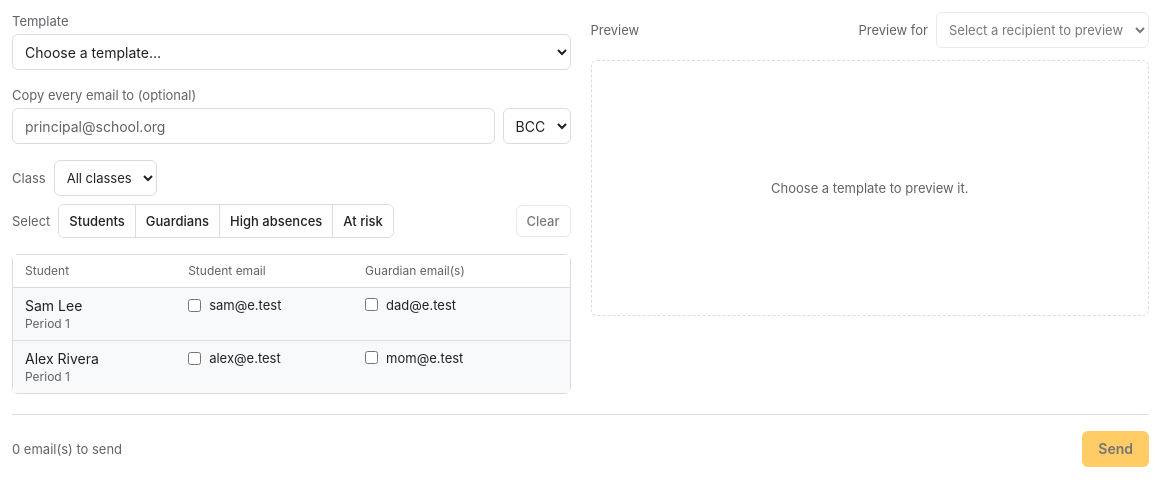
it: ComposeView › At risk selects both the student and guardian emails for at-risk rows
Expected: the button "Alex Rivera" is shown, [25, 349, 99, 369]
Click the button "At risk" at (363, 221), box [333, 205, 393, 237]
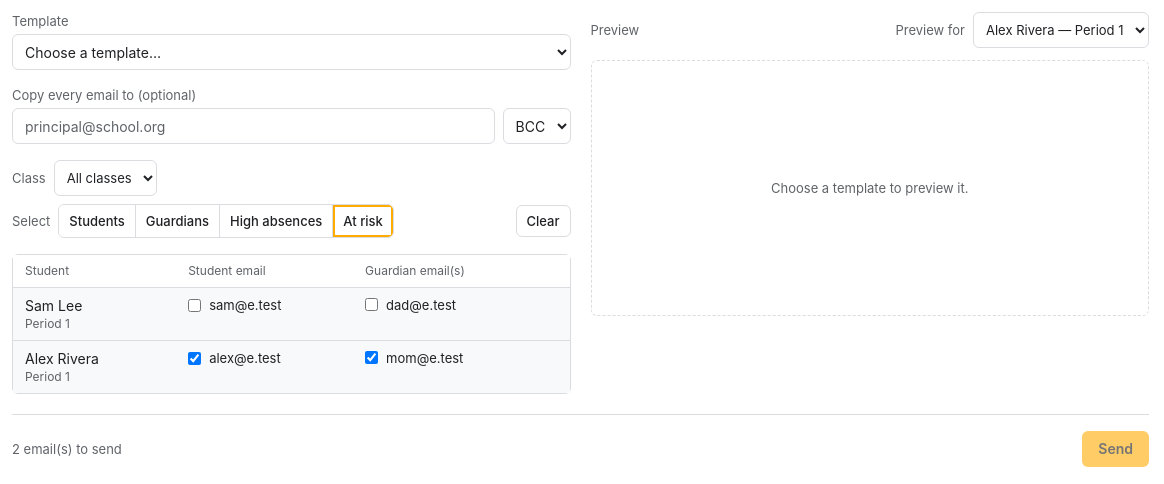
Expected: the checkbox named "Student email for Sam Lee in Period 1" is not checked, [188, 298, 201, 312]
Expected: the checkbox named "Student email for Alex Rivera in Period 1" is checked, [188, 352, 201, 364]
Expected: the checkbox named "Guardian emails for Alex Rivera in Period 1" is checked, [365, 351, 378, 364]
